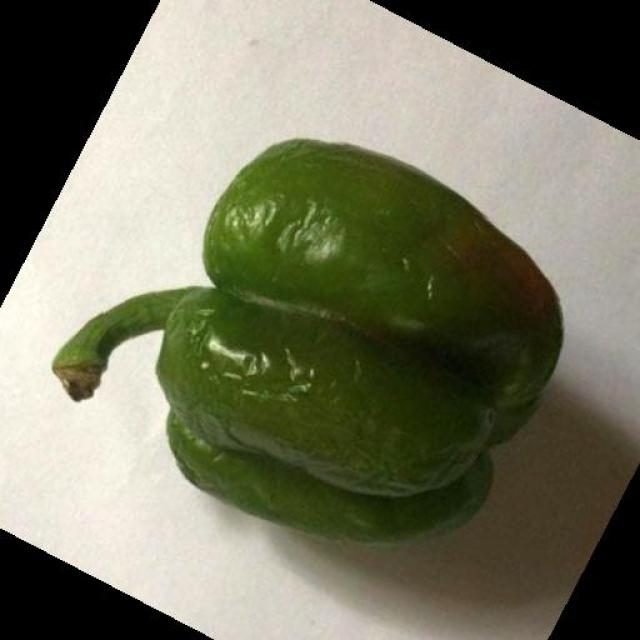Stale_Capsicum: (153, 106, 515, 530)
